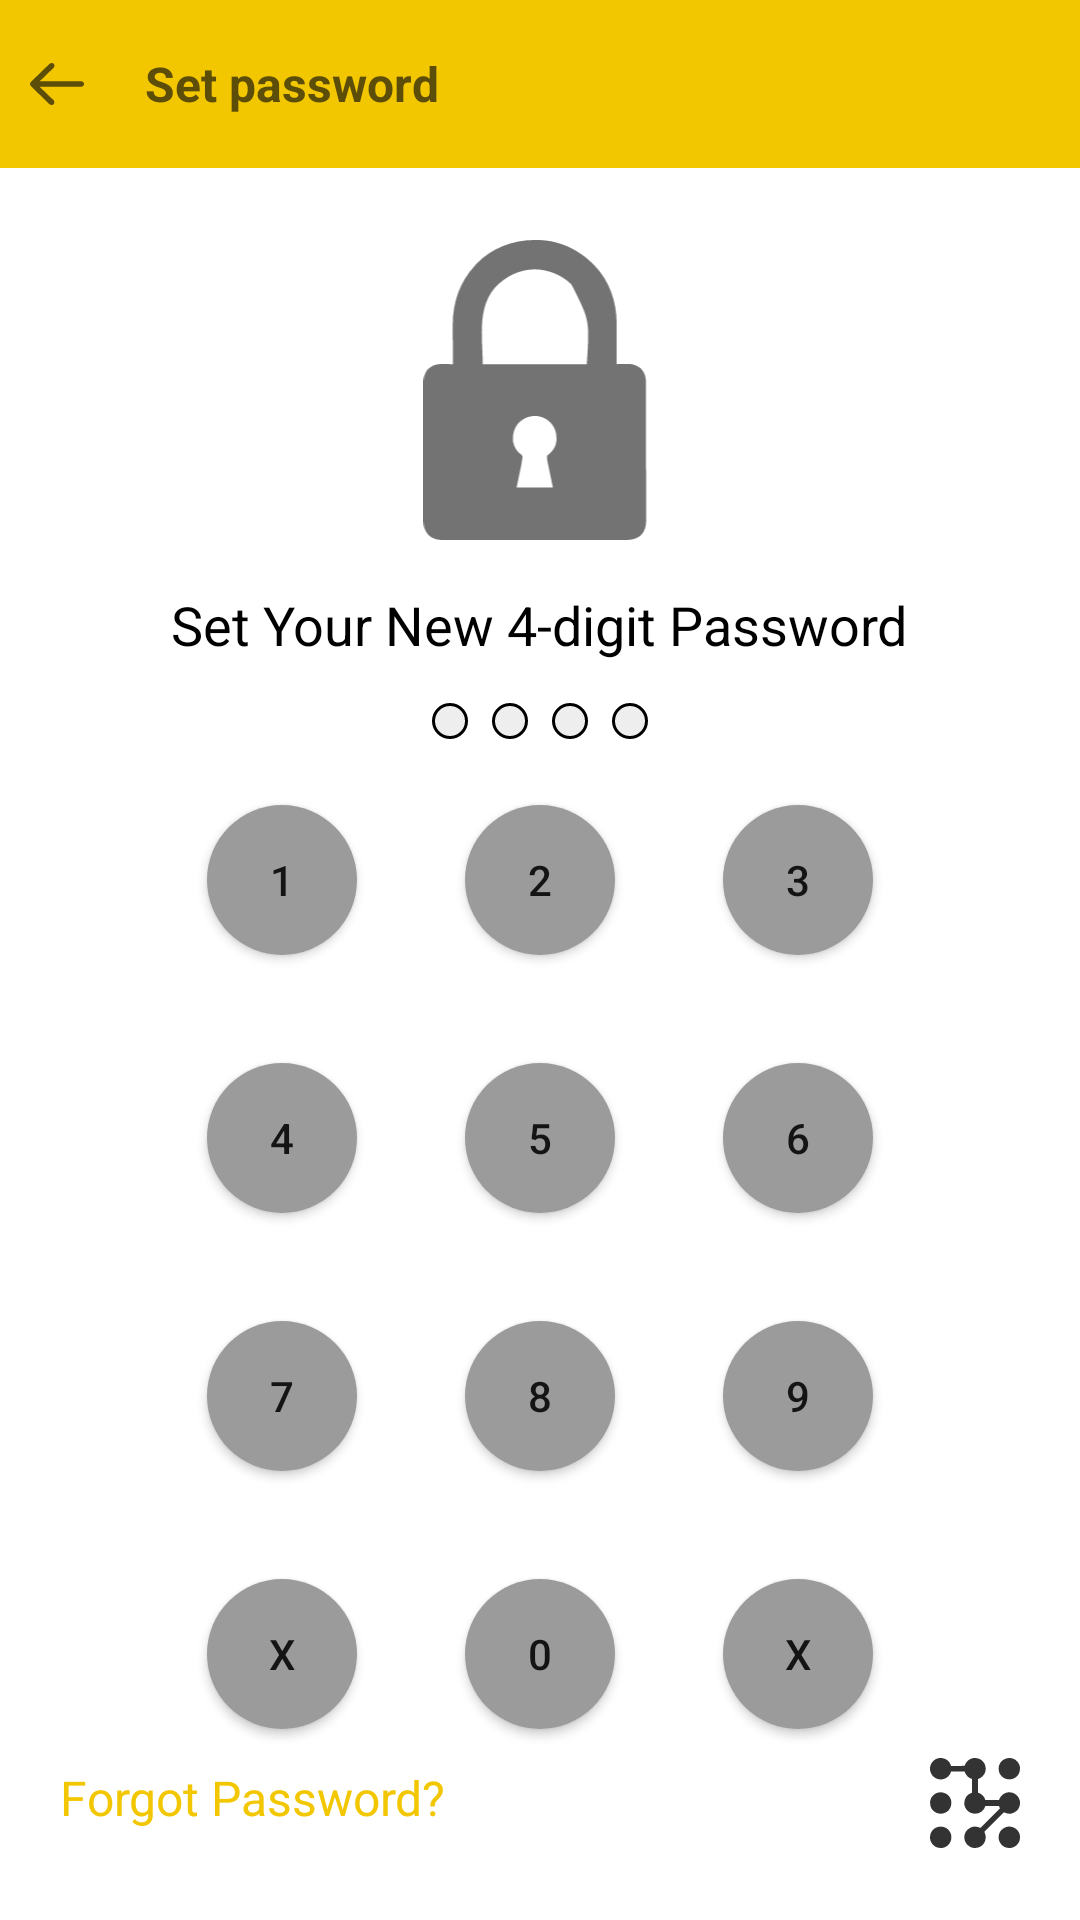

Where icons sit on this 1080w x 1920h app screen, as (x1, y1, x2, y2):
back: (30, 63, 84, 105)
lock: (423, 240, 647, 540)
pattern: (930, 1758, 1020, 1848)
